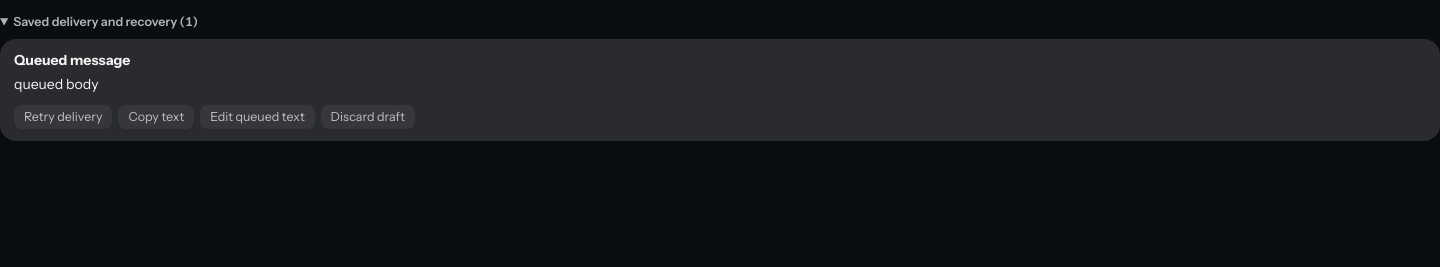
Test: MessagingQueuePanel › saves a queued edit with the replacement text and exact record
Click the button "Edit queued text" at (257, 117), box [200,105,315,129]
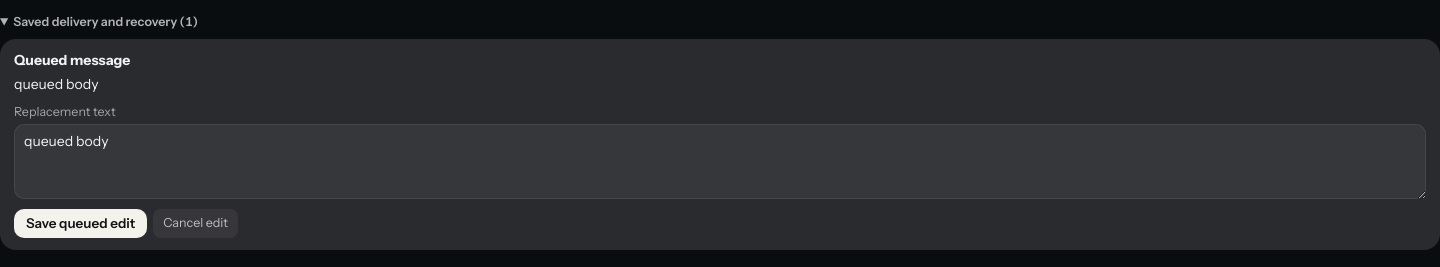
Expected: the text box labelled "Replacement text" holds "queued body"
Replace the text in the text box labelled "Replacement text" with "replacement body" at (720, 162), box [14,124,1426,199]
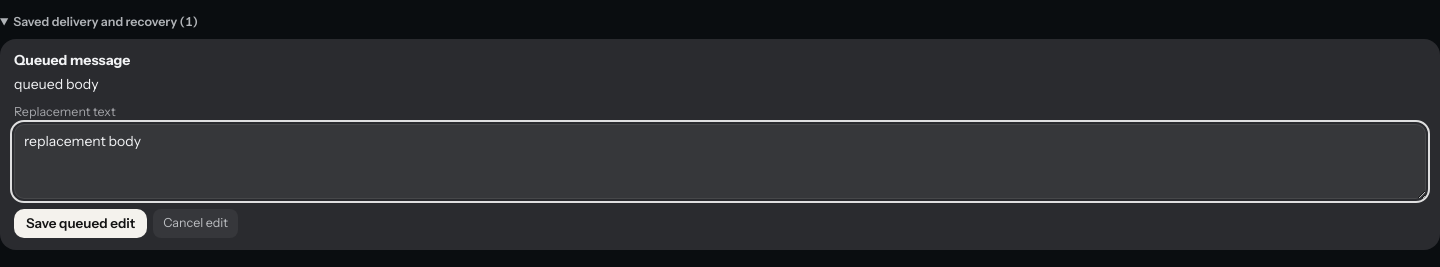
Click the button "Save queued edit" at (81, 224), box [14,209,147,238]
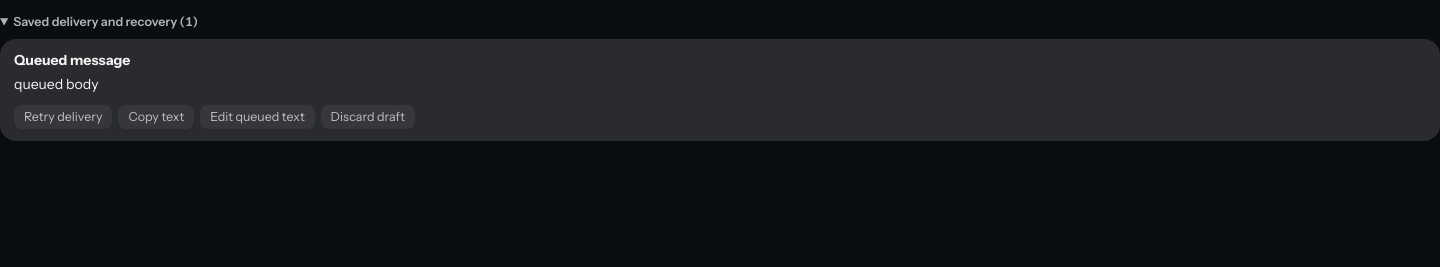
Expected: the label labelled "Replacement text" is gone
